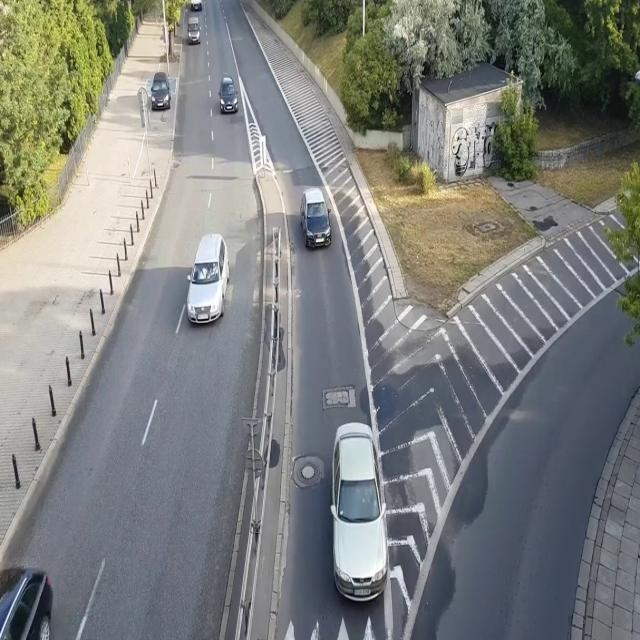car: (327, 421, 389, 607), (186, 230, 230, 330), (0, 566, 55, 640), (302, 187, 332, 252), (217, 74, 238, 115), (151, 70, 171, 113), (186, 12, 201, 48)
van: (187, 0, 203, 9)
